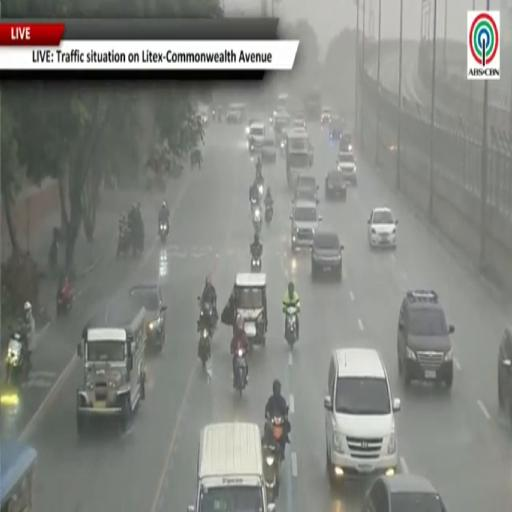car: (324, 347, 401, 485), (397, 290, 454, 389), (361, 474, 446, 511), (129, 283, 167, 350), (290, 200, 321, 250), (312, 232, 344, 280), (498, 327, 511, 424), (368, 207, 398, 248), (325, 170, 346, 201), (294, 175, 318, 202), (337, 152, 356, 185), (248, 122, 265, 154), (292, 188, 318, 207), (226, 103, 247, 124), (261, 138, 276, 163), (339, 132, 353, 153), (330, 118, 343, 140), (198, 105, 209, 125), (321, 107, 332, 125), (291, 118, 306, 131)
jeepney: (77, 296, 147, 435), (0, 439, 37, 511), (234, 274, 267, 345), (286, 131, 313, 185), (274, 112, 290, 150)
motorcycle: (262, 416, 286, 501), (6, 332, 31, 387), (262, 443, 281, 502), (198, 297, 217, 337), (235, 349, 247, 396), (198, 328, 211, 371), (285, 306, 297, 349), (57, 287, 74, 316), (117, 229, 131, 258), (253, 206, 262, 233), (159, 220, 169, 243), (251, 256, 261, 273), (265, 204, 273, 225), (251, 198, 260, 214), (258, 181, 263, 201)
